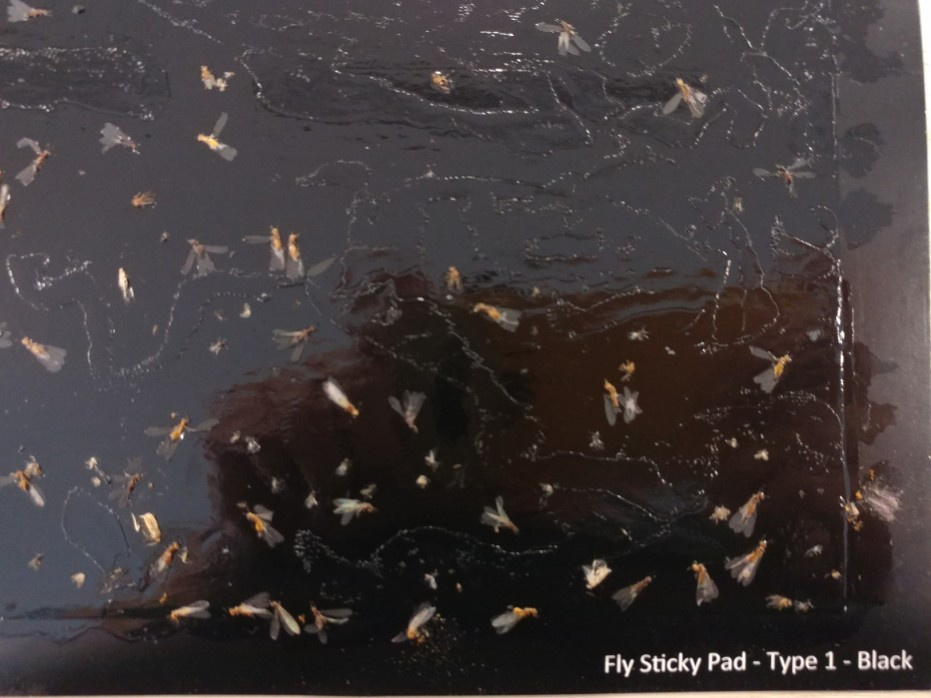flying termite: (241, 220, 281, 281), (725, 537, 771, 586), (681, 560, 722, 610), (279, 228, 310, 288)
